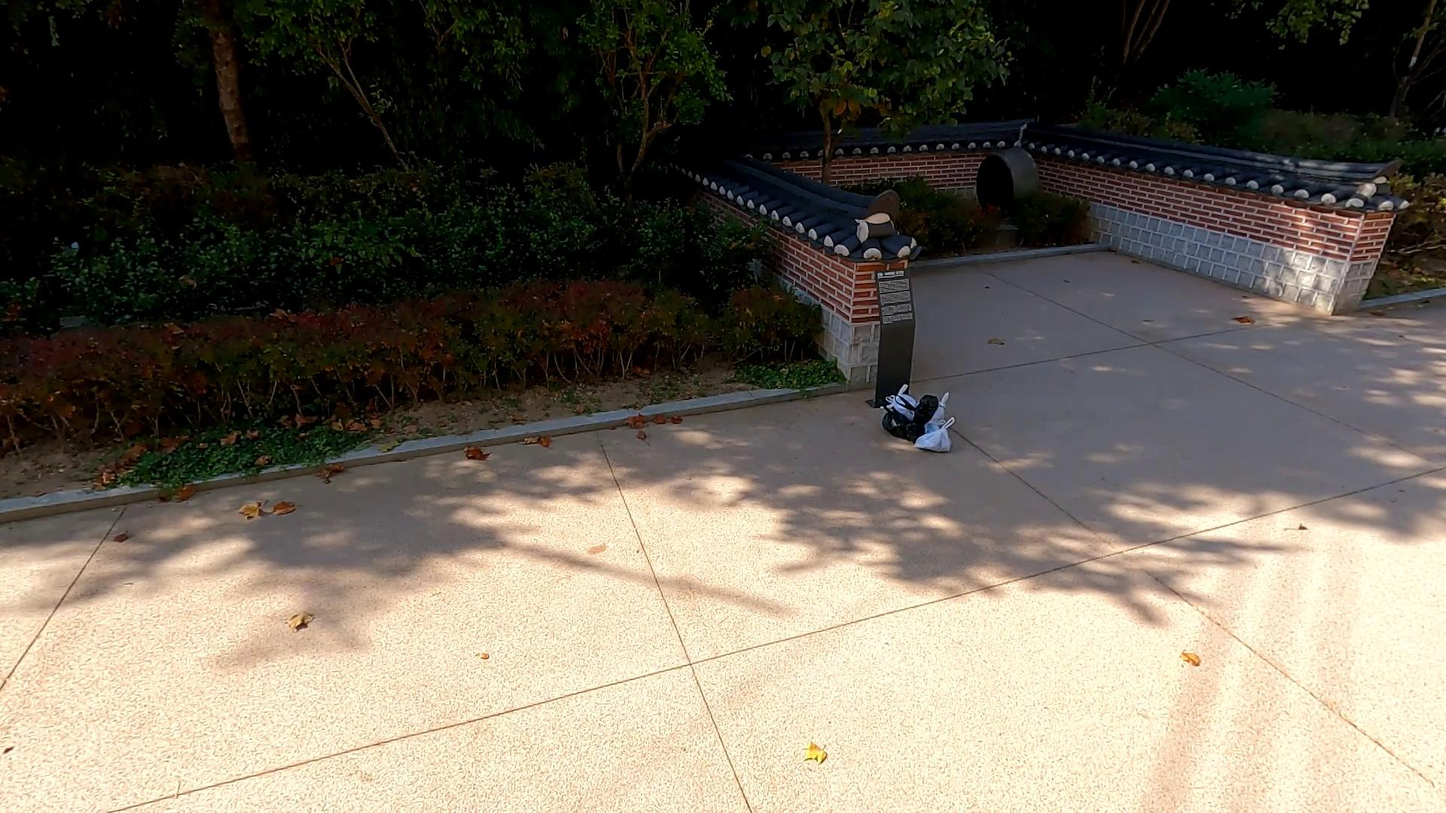trash: (891, 391, 936, 441), (878, 404, 922, 444), (880, 382, 919, 423), (924, 388, 951, 447), (914, 417, 956, 454)
